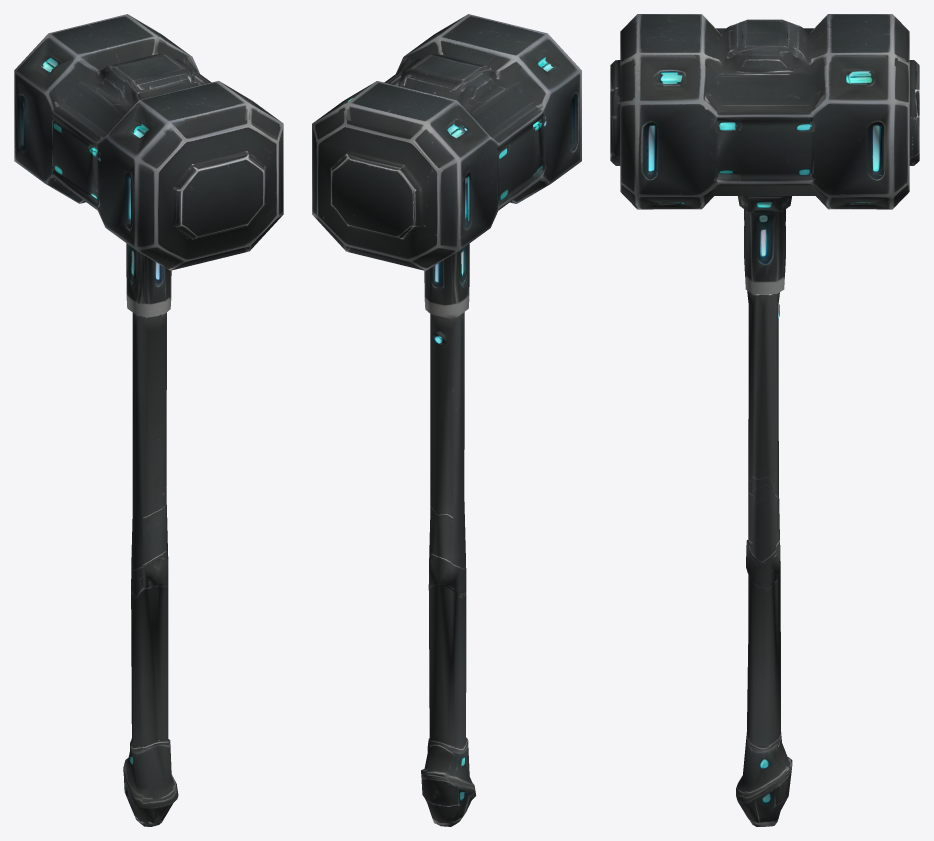
File: battle_hawk.glb
The picture shows the model from 3 angles, left to right: view 1: azimuth 30°, elevation 25°; view 2: azimuth 150°, elevation 25°; view 3: azimuth 270°, elevation 25°; orthographic projection. The views are drawn at different scales.
Visible parts, largest first — view 1: battle_hawk; view 2: battle_hawk; view 3: battle_hawk.
Boxes of the visible parts, left/top/right/bottom form: battle_hawk: left=14, top=14, right=283, bottom=826; battle_hawk: left=312, top=14, right=581, bottom=826; battle_hawk: left=610, top=14, right=919, bottom=826.
Size of the model in its own units: 0.3175 by 1.55 by 0.5504.
1 material, 1 textured.
